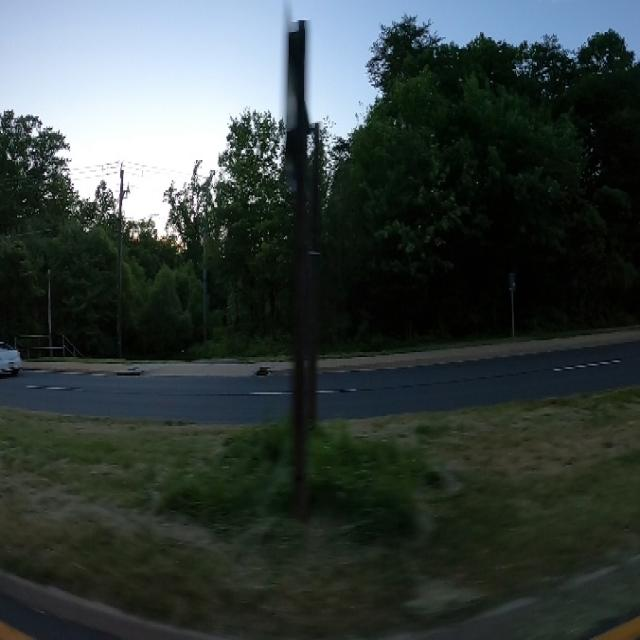cars: (0, 327, 24, 380)
